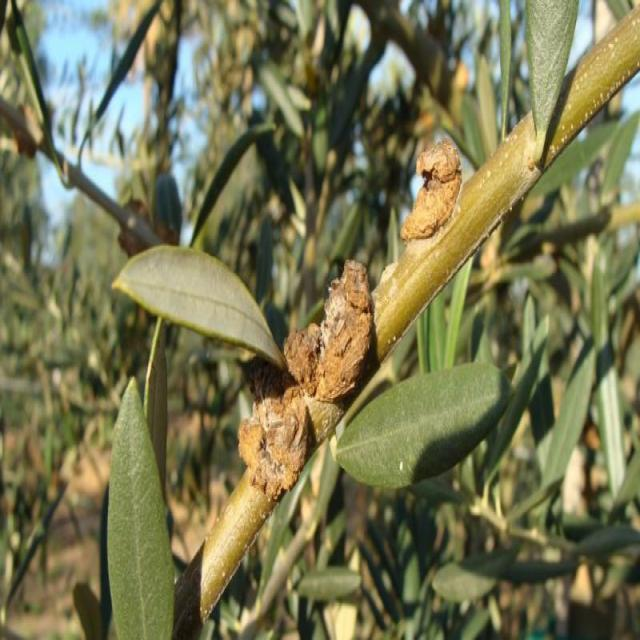Tuberculosis: (284, 260, 374, 435), (238, 383, 314, 502), (400, 138, 462, 238)
